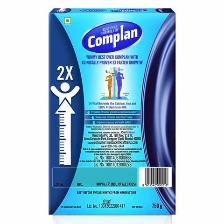carton: (43, 4, 182, 221)
